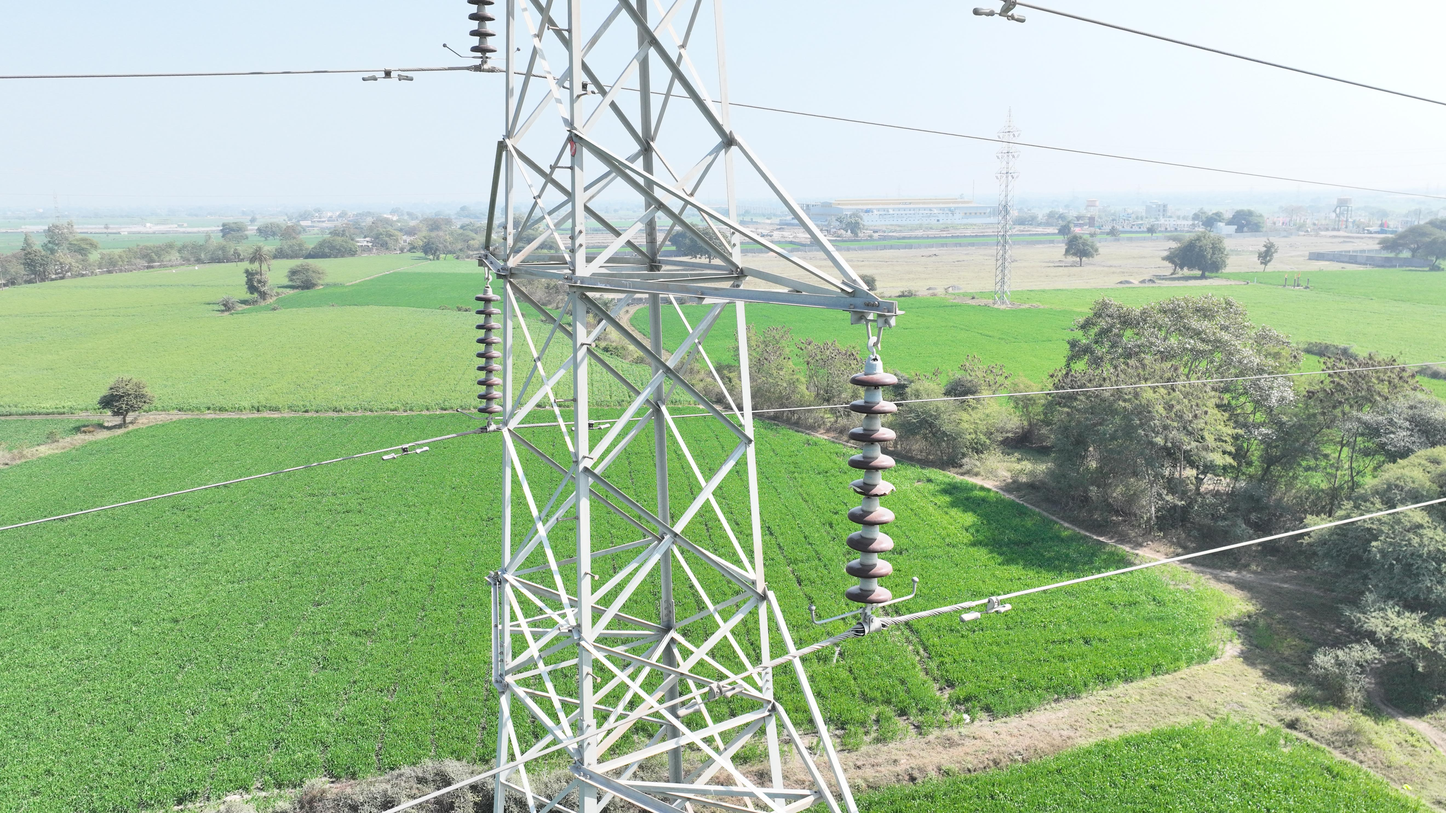broken_insulator: (842, 475, 902, 500)
